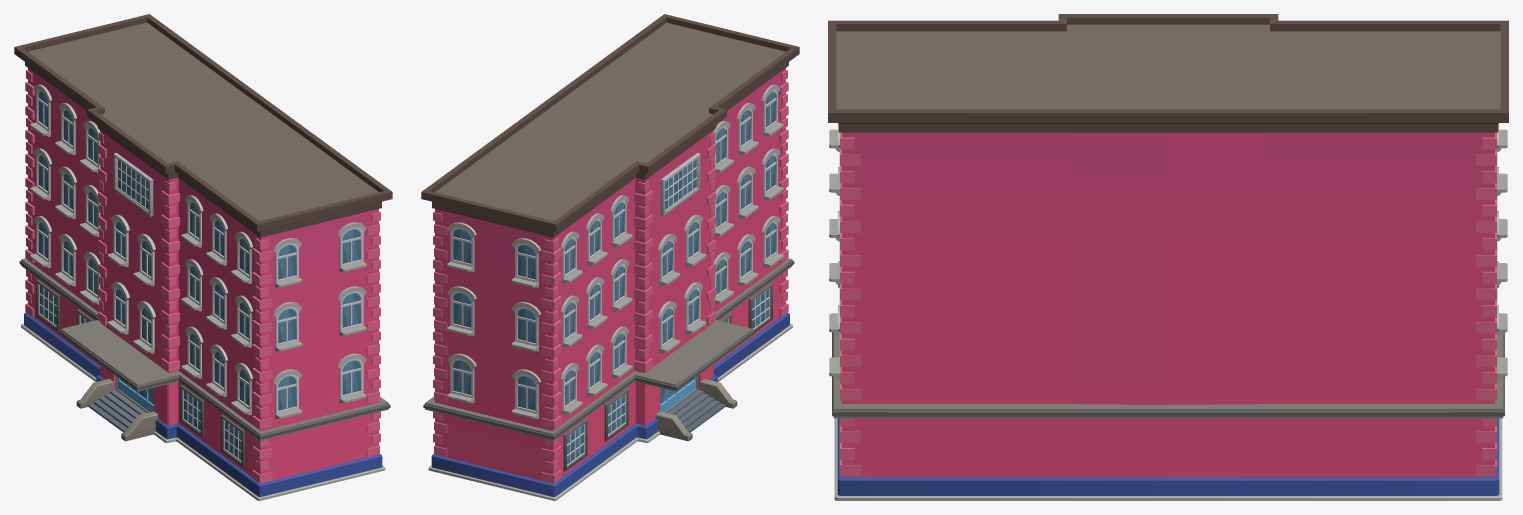
File: Building_6_H.fbx
3 views of the same model, side by side, from view 1: azimuth 30°, elevation 25°; view 2: azimuth 150°, elevation 25°; view 3: azimuth 270°, elevation 25° (orthographic). The views are drawn at different scales.
Parts seen in each view (by area): view 1: Building_6_H; view 2: Building_6_H; view 3: Building_6_H.
Part boxes in pixels (x1,y1,x2,y2): Building_6_H: (14,14,392,500); Building_6_H: (421,14,799,500); Building_6_H: (828,14,1508,500).
Size of the model in its own units: 935 by 1440 by 2273.
